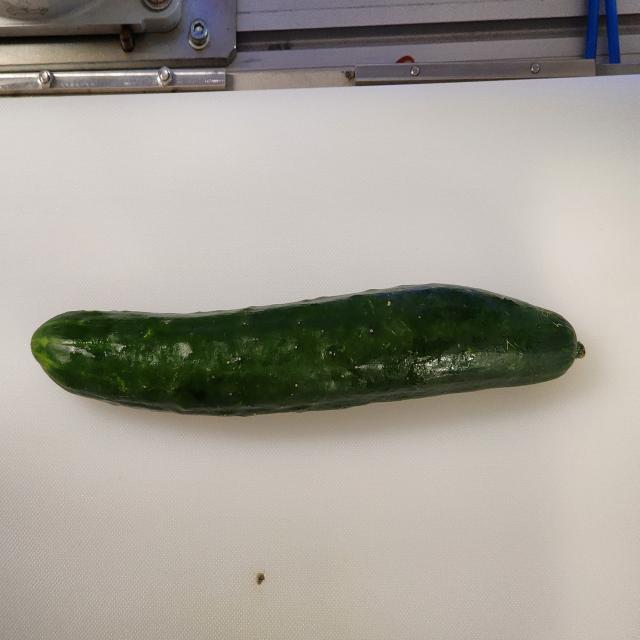cucumber: (30, 281, 586, 417)
